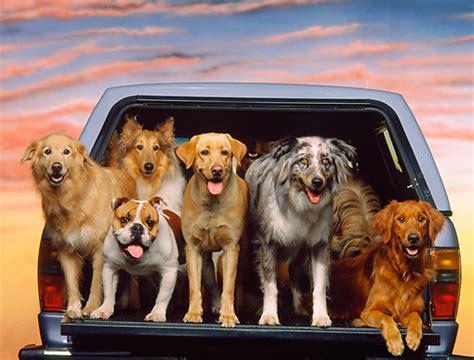dog: (245, 137, 351, 326), (22, 134, 122, 318), (327, 201, 444, 355), (176, 132, 247, 326), (90, 196, 182, 320), (118, 117, 186, 196)
